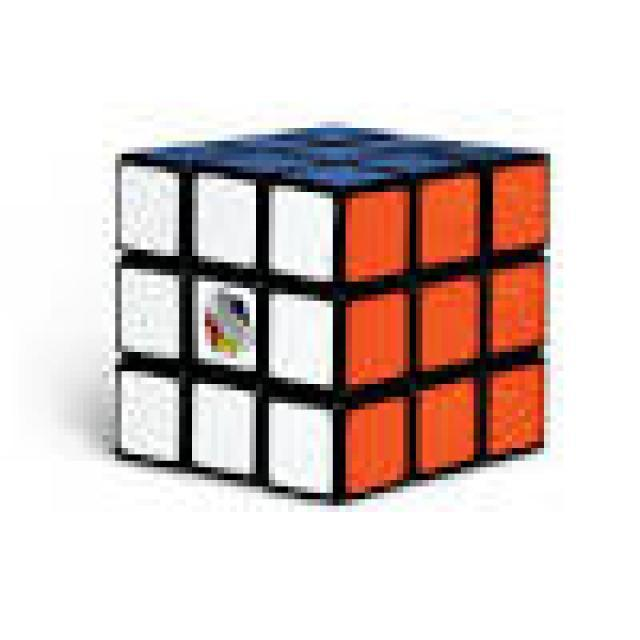Rub: (112, 125, 551, 503)
